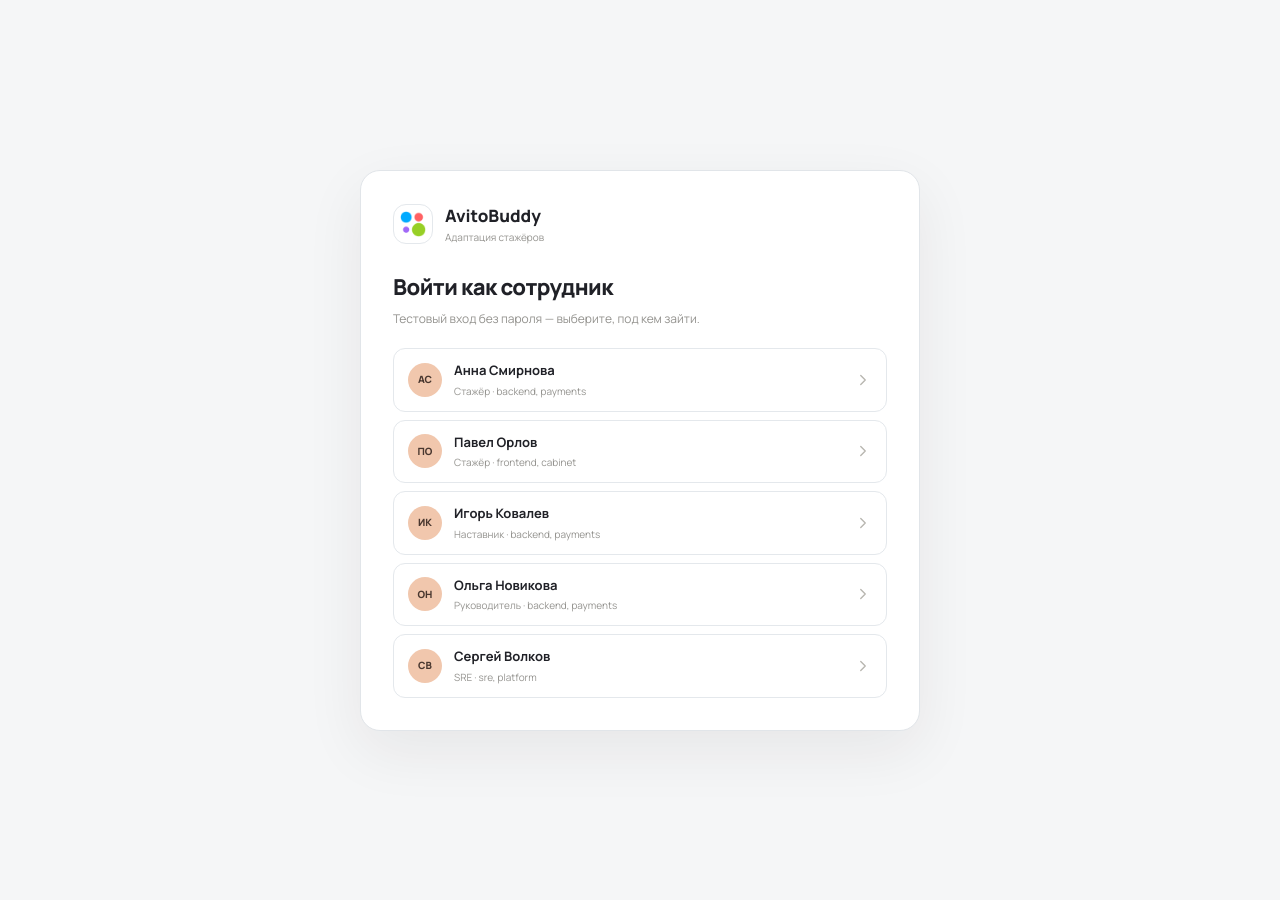
Test: вход › список сотрудников, вход, выход
The width and height of the screenshot is (1280, 900).
Click the text "Анна Смирнова": [504, 370] box x1=454 y1=361 x2=555 y2=379
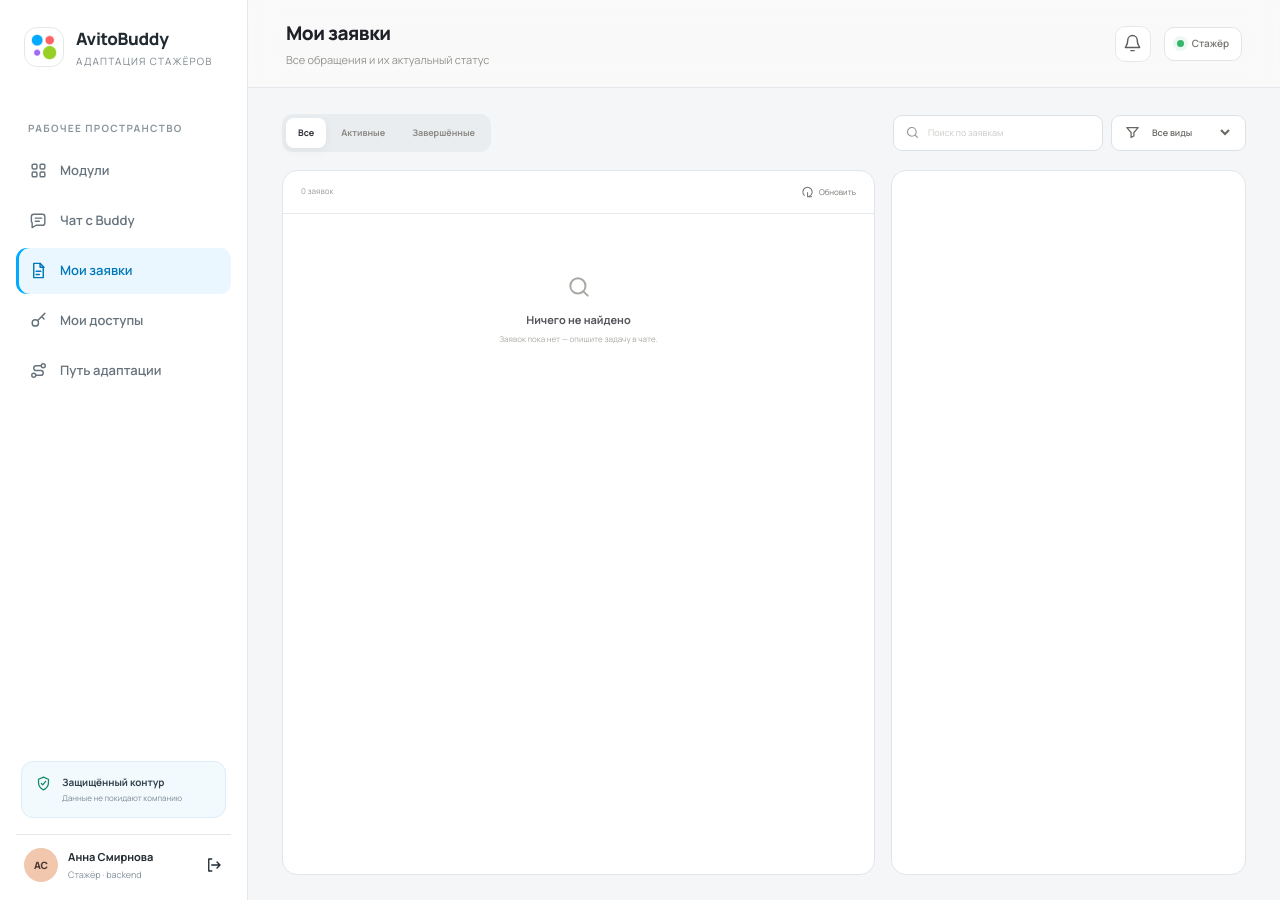
Check: the heading "Мои заявки" is shown, box x1=286 y1=20 x2=390 y2=46
Click the button titled "Выйти": [124, 858] box x1=16 y1=834 x2=231 y2=882
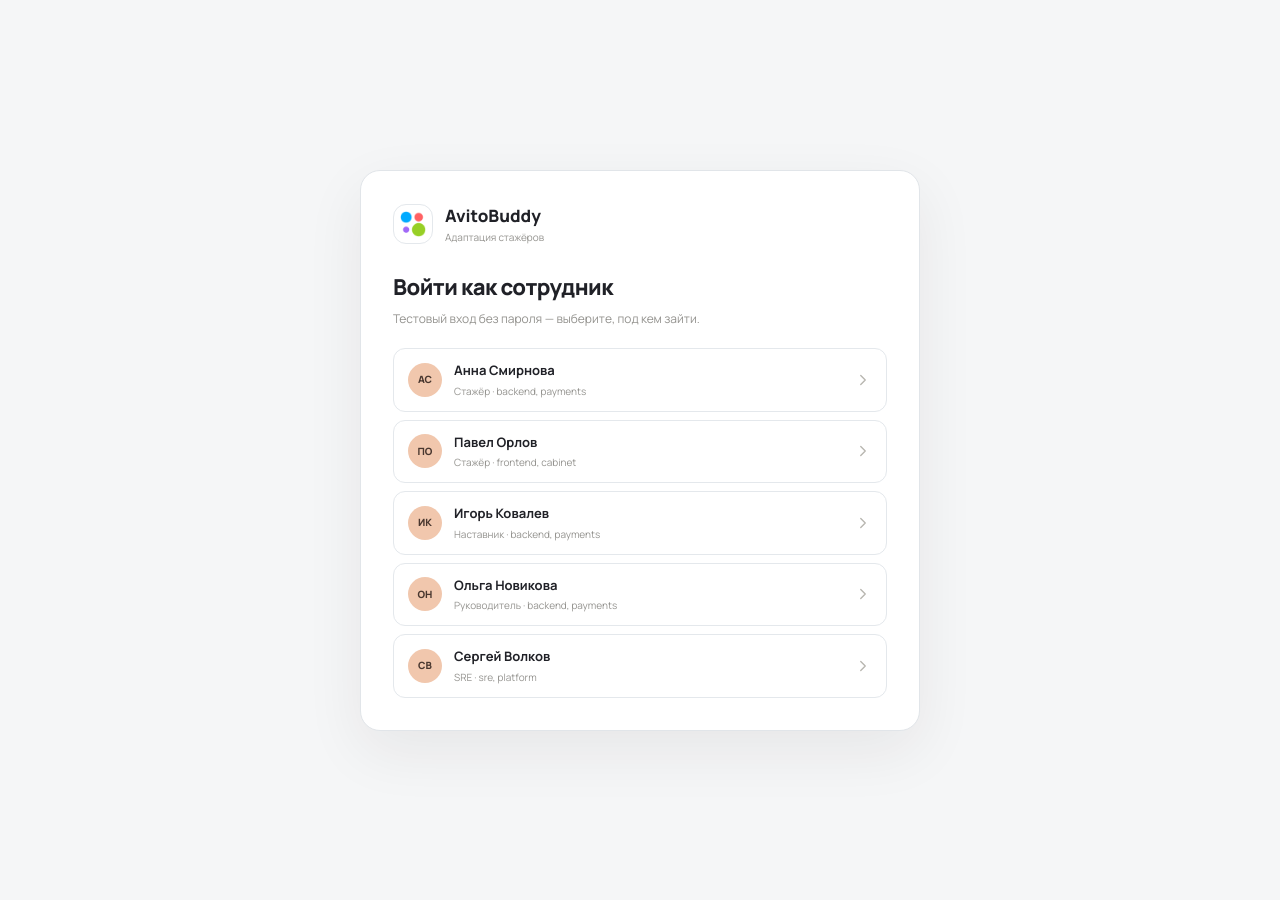
Check: the text "Павел Орлов" is shown, box x1=454 y1=432 x2=537 y2=450
